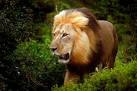lion: (45, 11, 123, 90)
